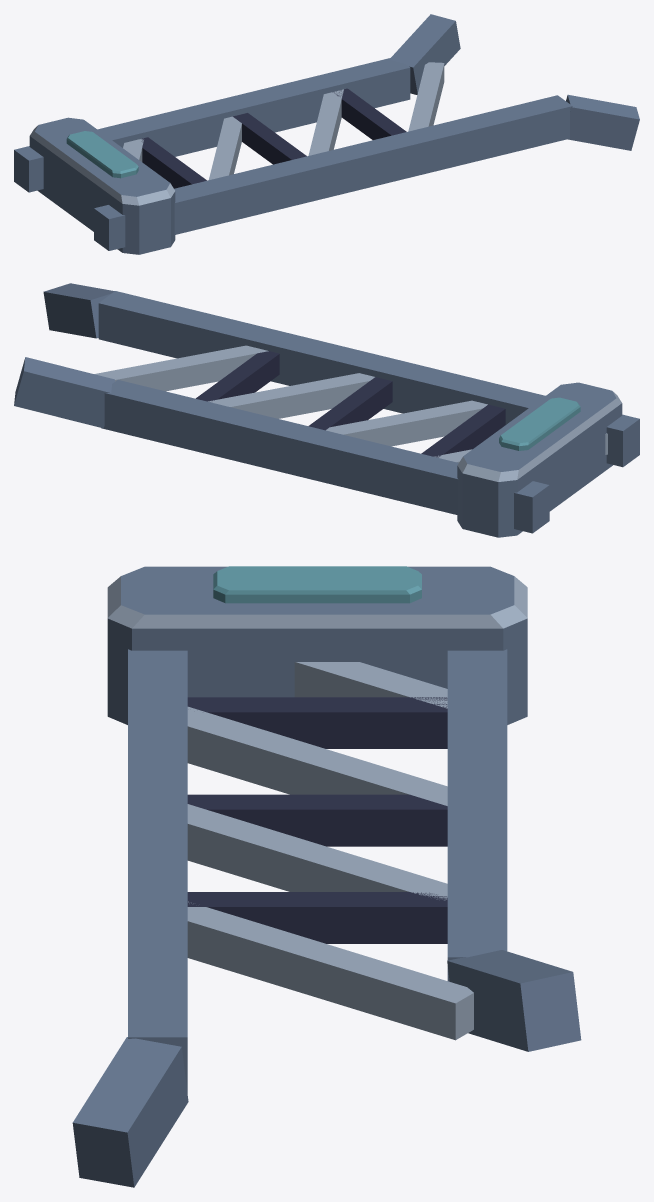
The model's file is station_truss.glb.
3 renders of one model, top to bottom at view 1: azimuth 30°, elevation 25°; view 2: azimuth 150°, elevation 25°; view 3: azimuth 270°, elevation 25°, orthographic. The views are drawn at different scales.
Visible parts, largest first — view 1: station_truss; view 2: station_truss; view 3: station_truss.
Boxes of the visible parts, left/top/right/bottom form: station_truss: left=14, top=14, right=639, bottom=254; station_truss: left=14, top=283, right=639, bottom=537; station_truss: left=72, top=566, right=581, bottom=1187.
Bounding box in the file's own units: 4.49 × 0.576 × 1.88.
